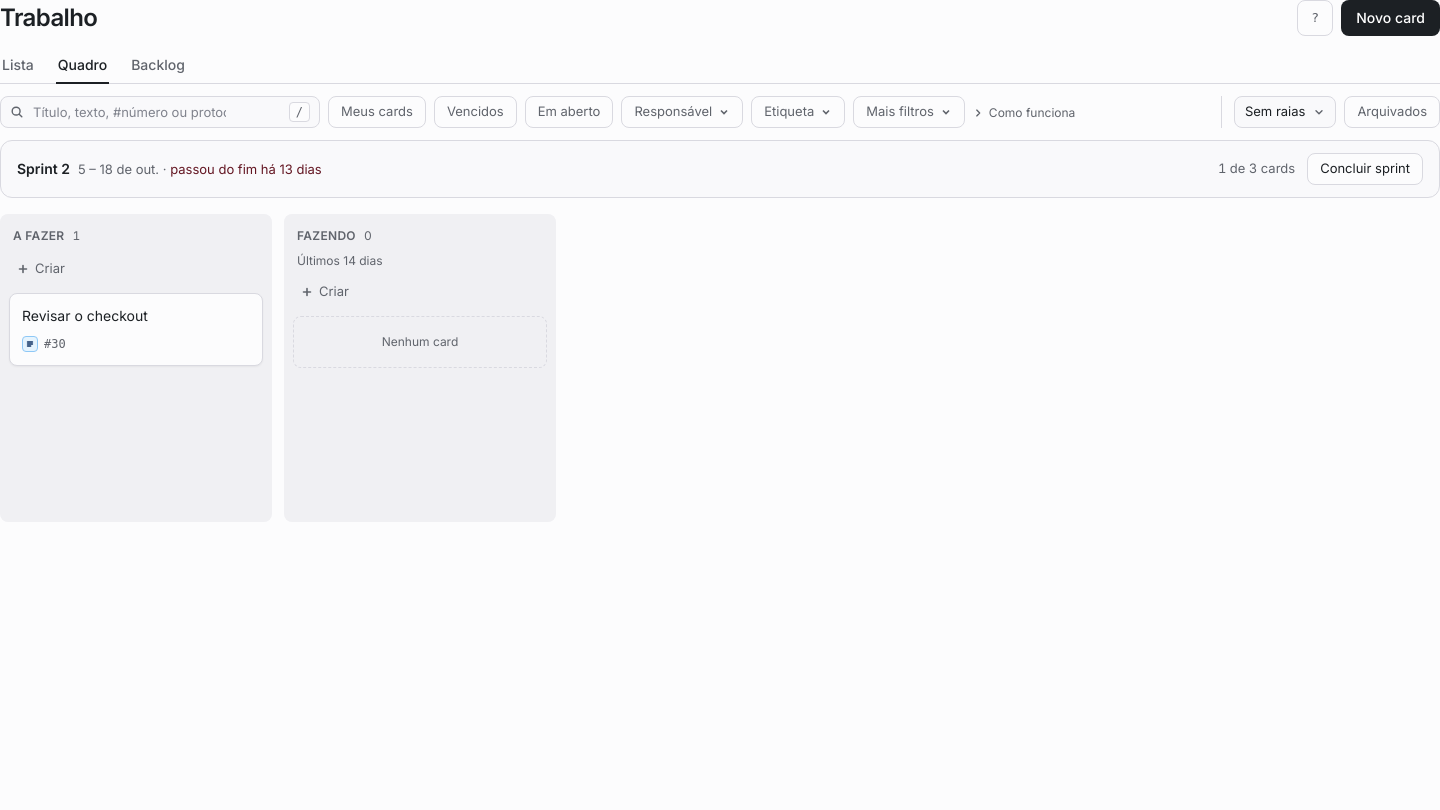
Test: o card novo, com as sprints ligadas › pelo "Mais detalhes" de uma coluna do quadro, o card entra de saida na sprint em andamento: o pedido a leva, e o card nasce no quadro
expect the element named "Sprint em andamento: Sprint 2" is shown: met, box [0,140,1439,198]
expect the text "Revisar o checkout" is shown: met, box [22,307,148,324]
Click the button with aria-label "Criar card em Fazendo" at (420, 292), box [293,276,547,308]
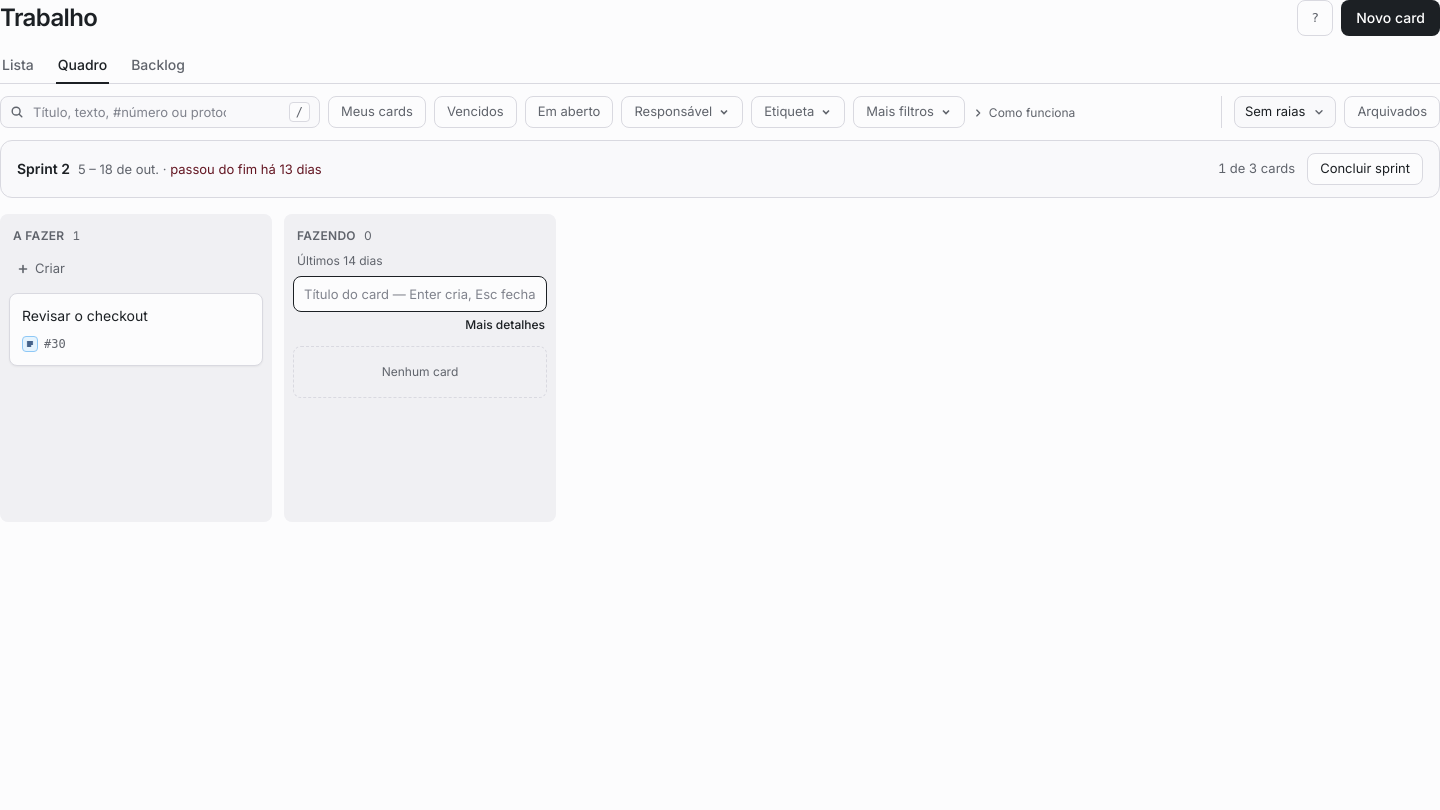
Type "Revisar o frete" into the field named "Título do card novo em Fazendo" at (420, 294), box [293,276,547,312]
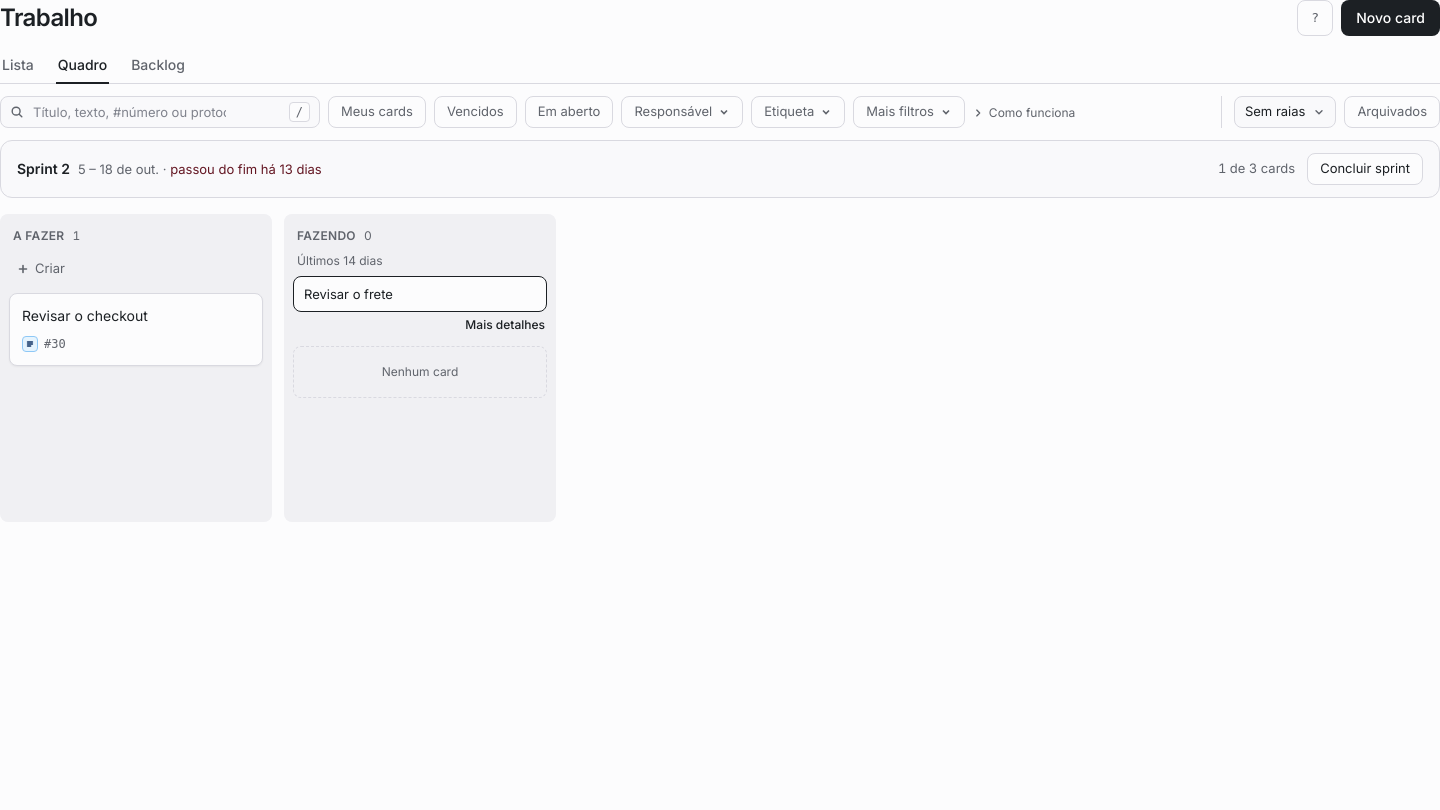
Click the button "Mais detalhes" at (505, 324), box [465,316,545,334]
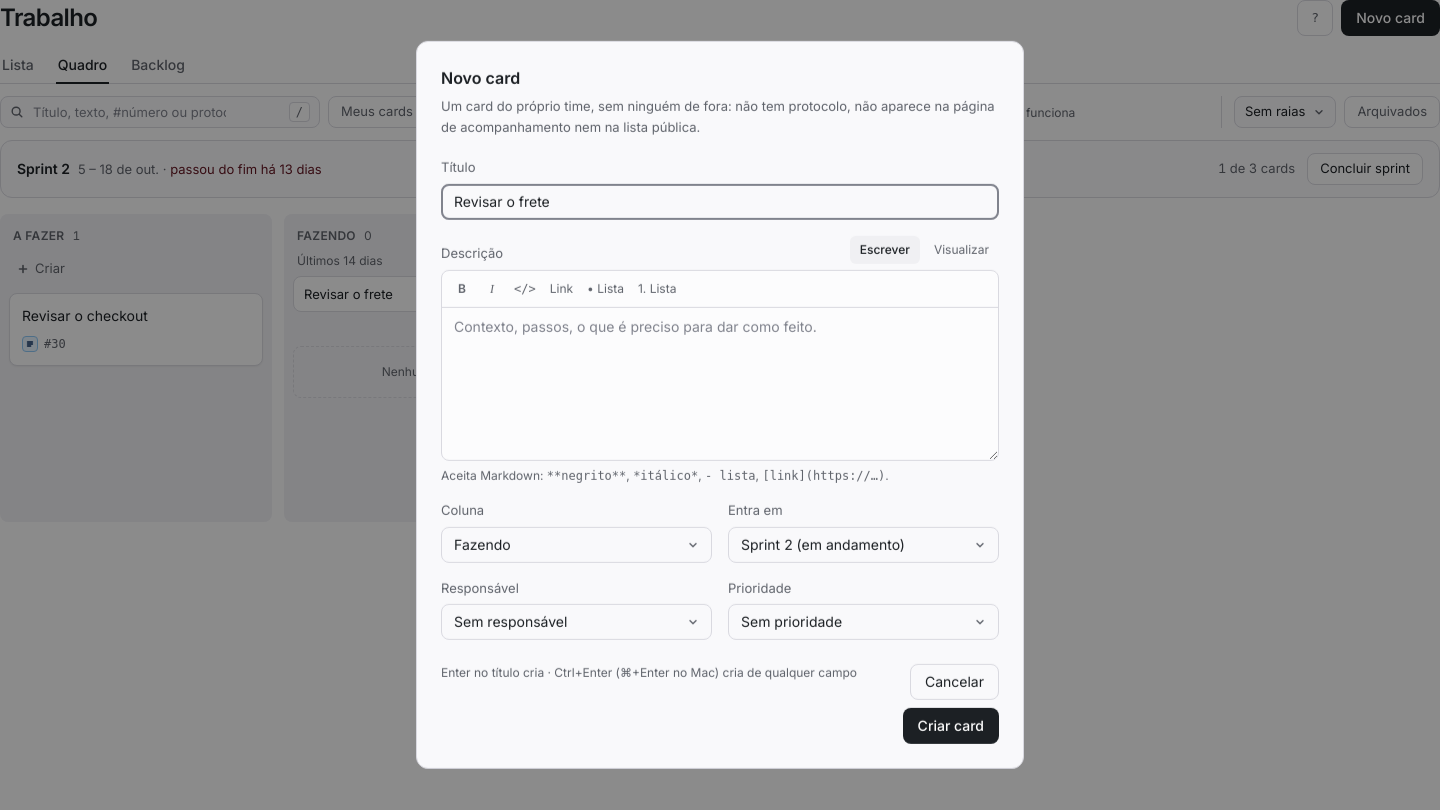
expect the dropdown named "Entra em" reads "Sprint 2 (em andamento)": met, box [728,527,999,563]
Click the button "Criar card" at (951, 726), box [903,708,999,744]
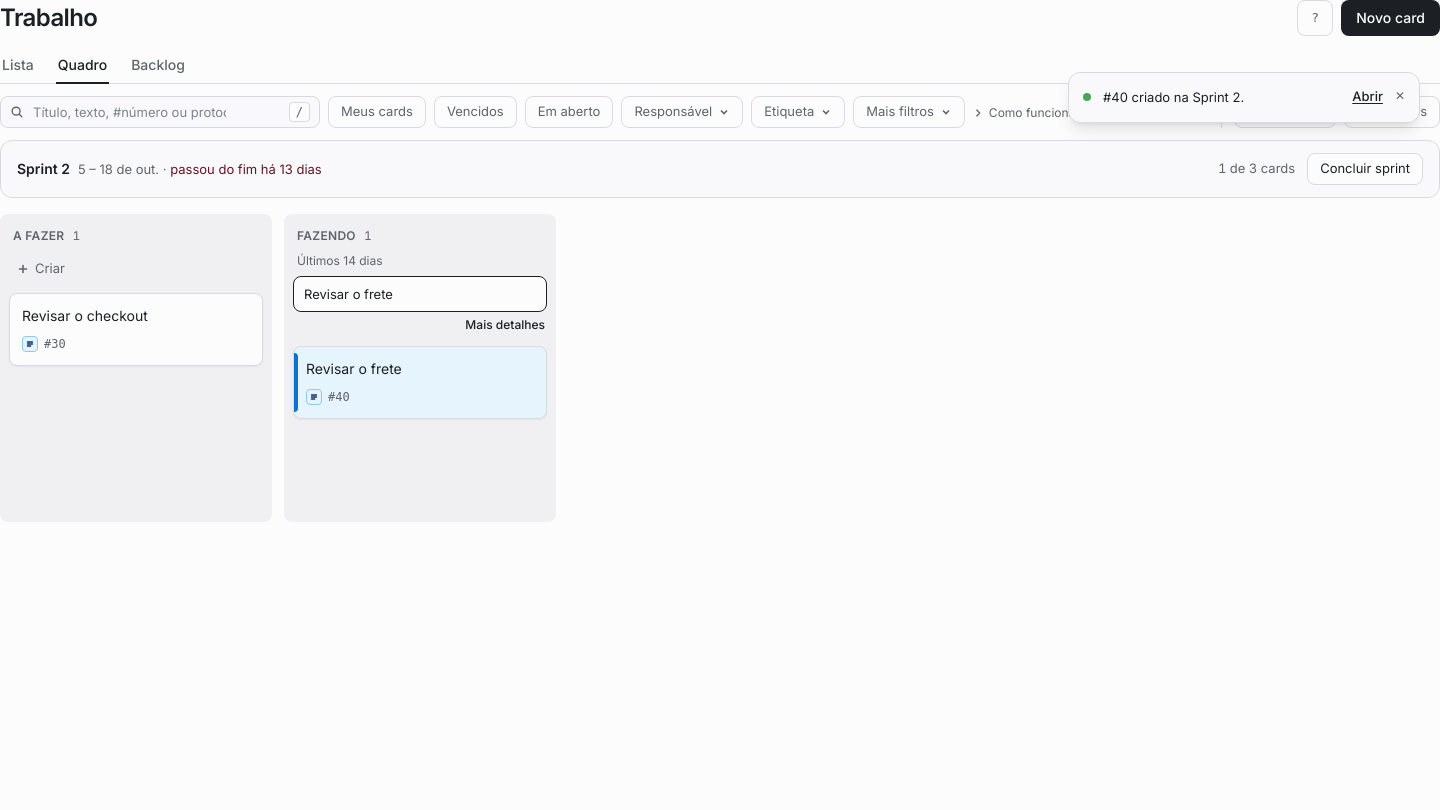
expect the dialog is gone: met
expect the text "Revisar o frete" is shown: met, box [306,360,402,376]
expect the button "Abrir" is shown: met, box [1352,87,1383,106]
